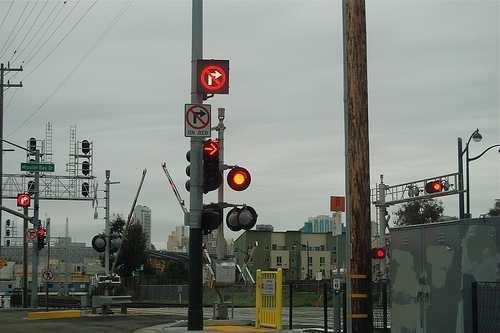red: (203, 136, 220, 193), (228, 166, 252, 193), (424, 180, 443, 196), (203, 140, 220, 156), (37, 226, 46, 252), (375, 248, 386, 261)
